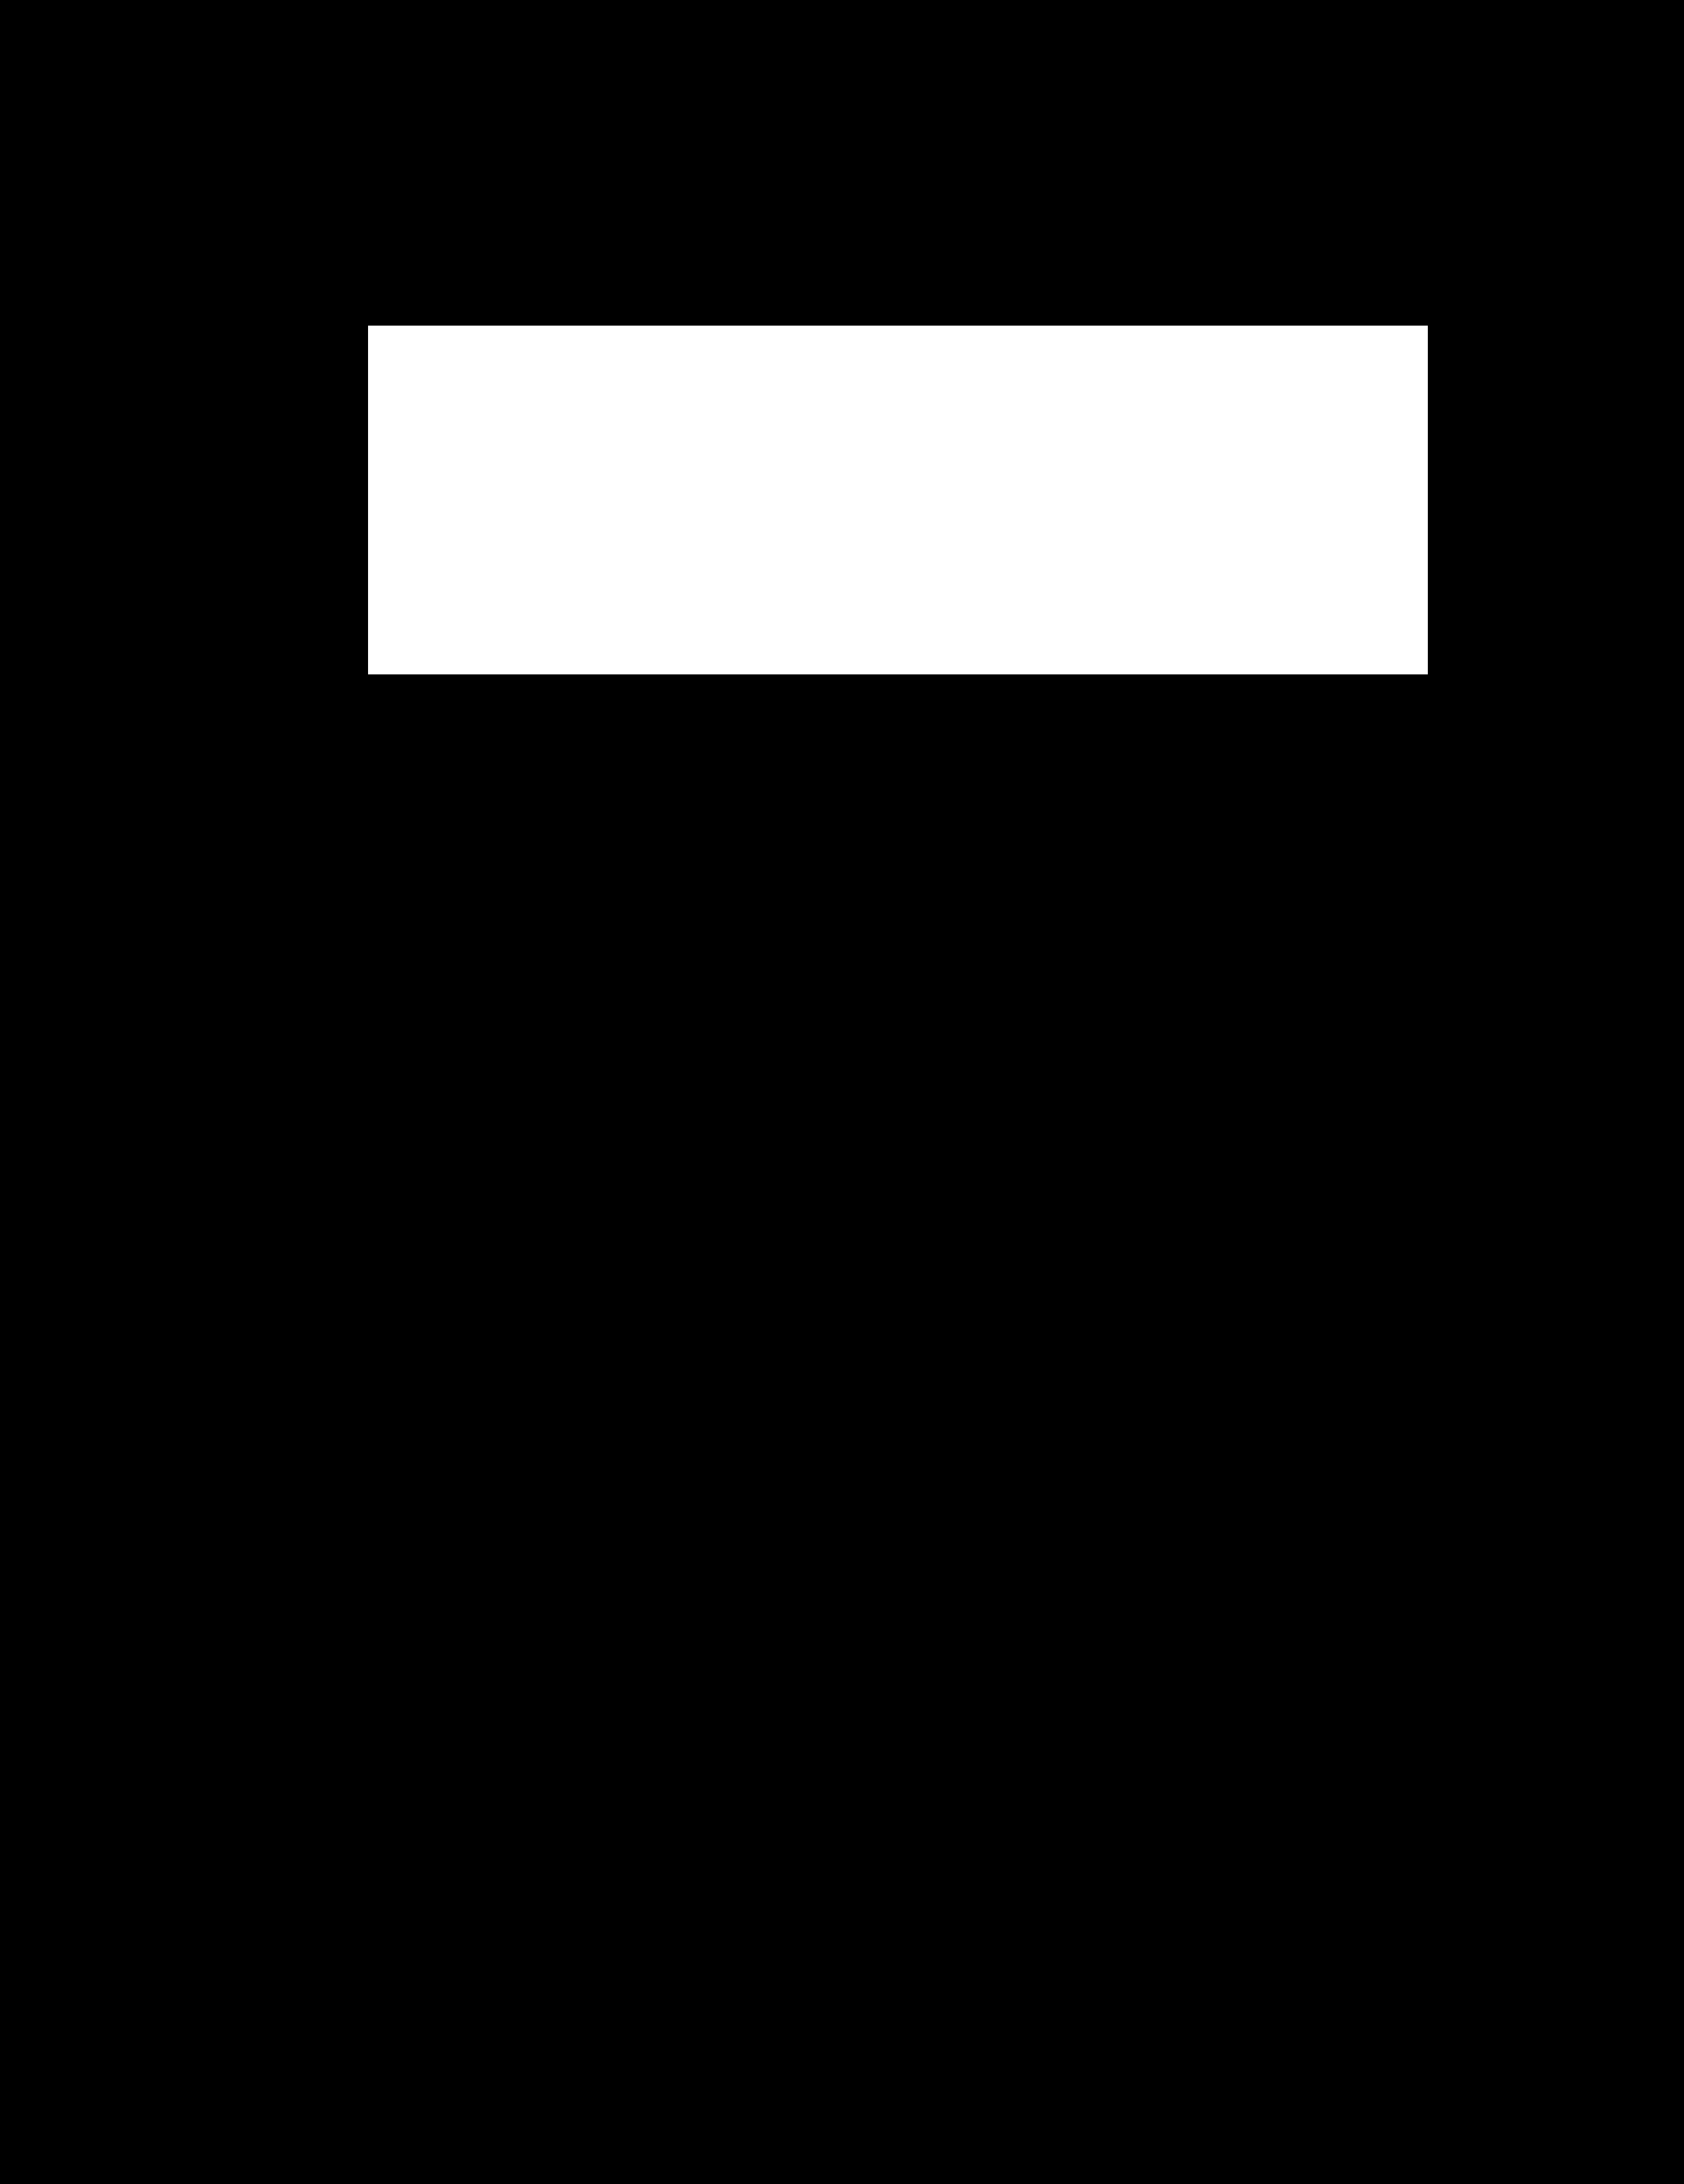table: (368, 325, 1428, 674)
